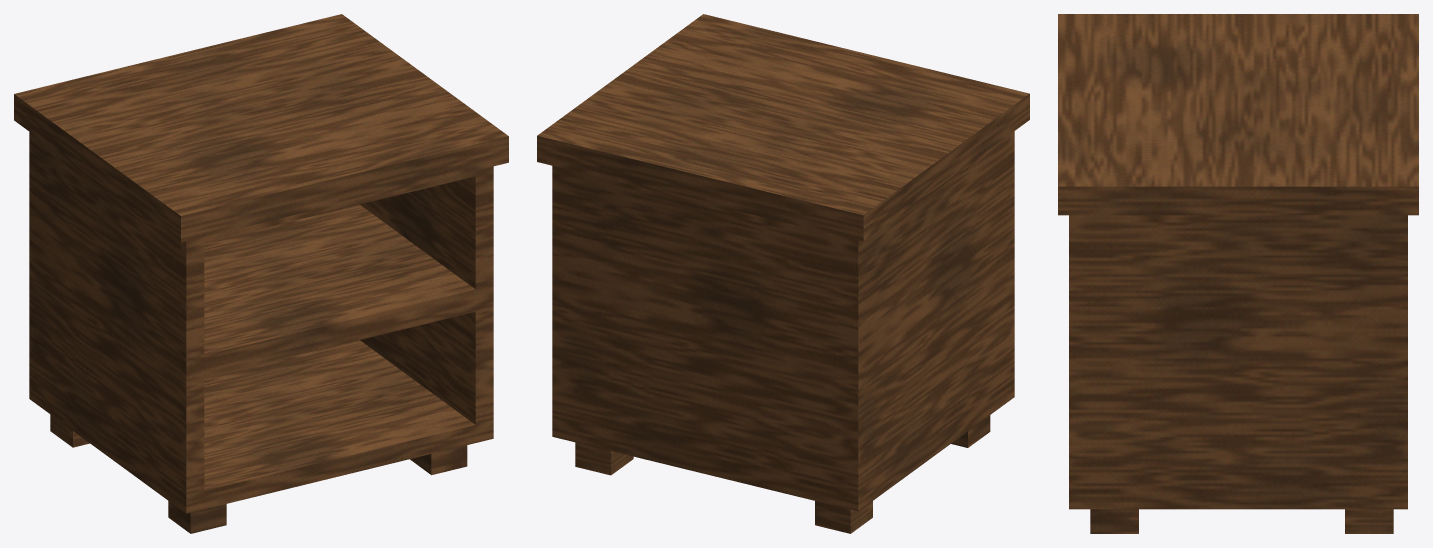
File: NightStandIsolated.fbx
3 renders of one model, left to right at view 1: azimuth 30°, elevation 25°; view 2: azimuth 150°, elevation 25°; view 3: azimuth 270°, elevation 25°, orthographic. The views are drawn at different scales.
Visible parts, largest first — view 1: NightStand.005, NightStand.008, NightStand.006; view 2: NightStand.005, NightStand.008, NightStand.007; view 3: NightStand.005, NightStand.008, NightStand.006, NightStand.007.
Part boxes in pixels (x1,y1,x2,y2): NightStand.005: (29, 132, 493, 513); NightStand.008: (14, 14, 508, 242); NightStand.006: (168, 445, 467, 533); NightStand.005: (552, 131, 1014, 511); NightStand.008: (537, 14, 1029, 241); NightStand.007: (575, 442, 872, 533); NightStand.005: (1069, 215, 1407, 509); NightStand.008: (1058, 14, 1418, 215); NightStand.006: (1090, 509, 1138, 533); NightStand.007: (1345, 509, 1393, 533).
Size of the model in its own units: 0.6226 by 0.6072 by 0.5494.
Materials: 1 (1 with a texture image).
